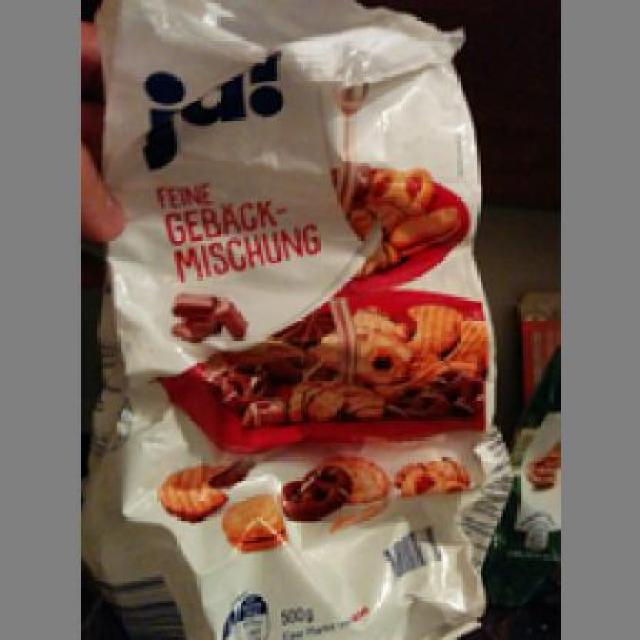Chocolate: (106, 0, 504, 635)
